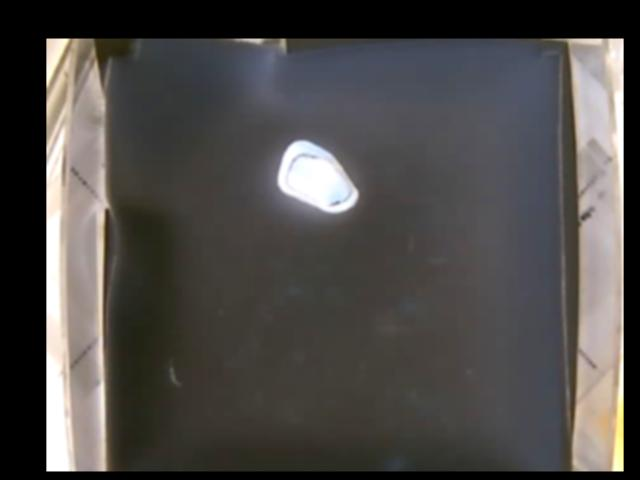Pebble: (275, 139, 359, 213)
